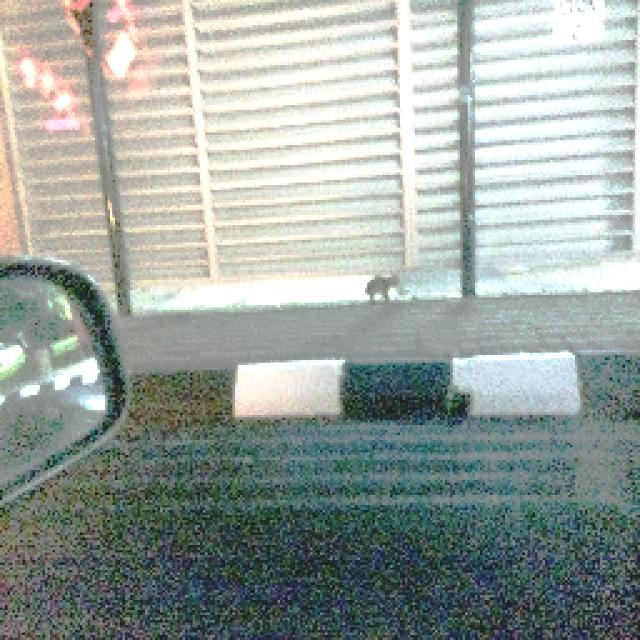cat: (364, 273, 404, 300)
